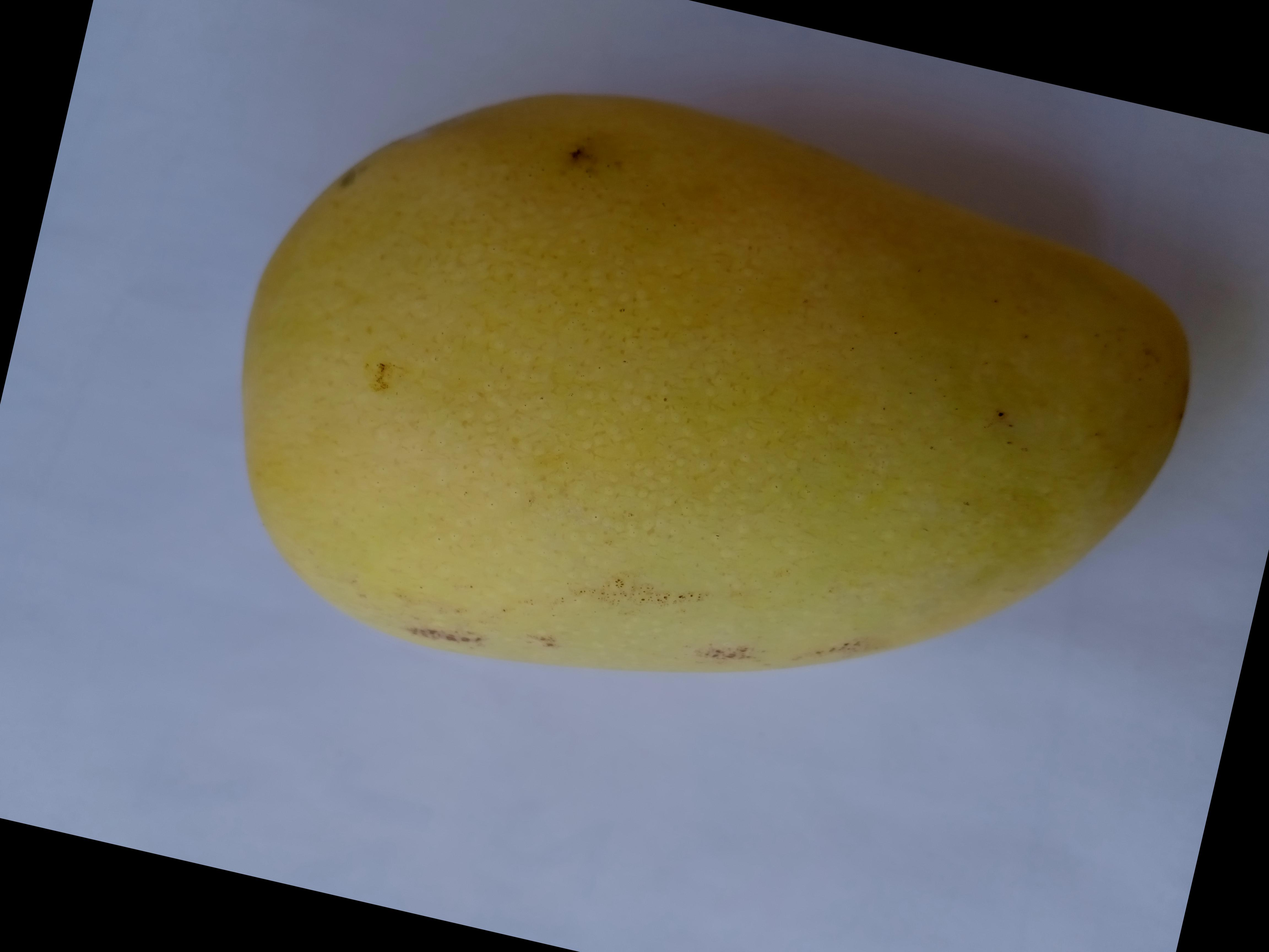Mango Ripe: (294, 0, 1269, 693)
